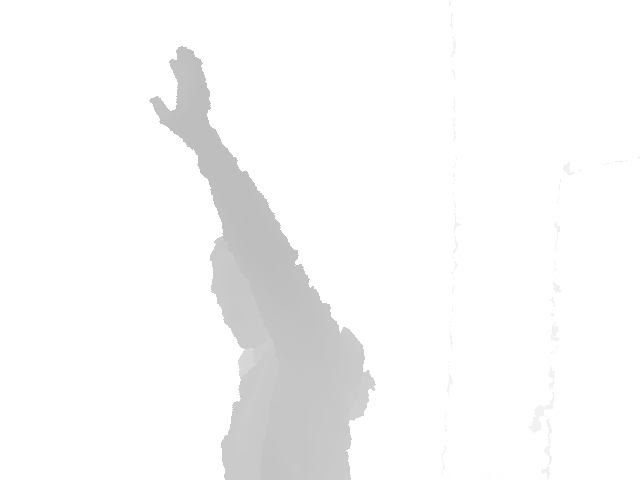hand: (148, 46, 224, 143)
head: (210, 236, 279, 348)
person: (148, 45, 377, 480)
